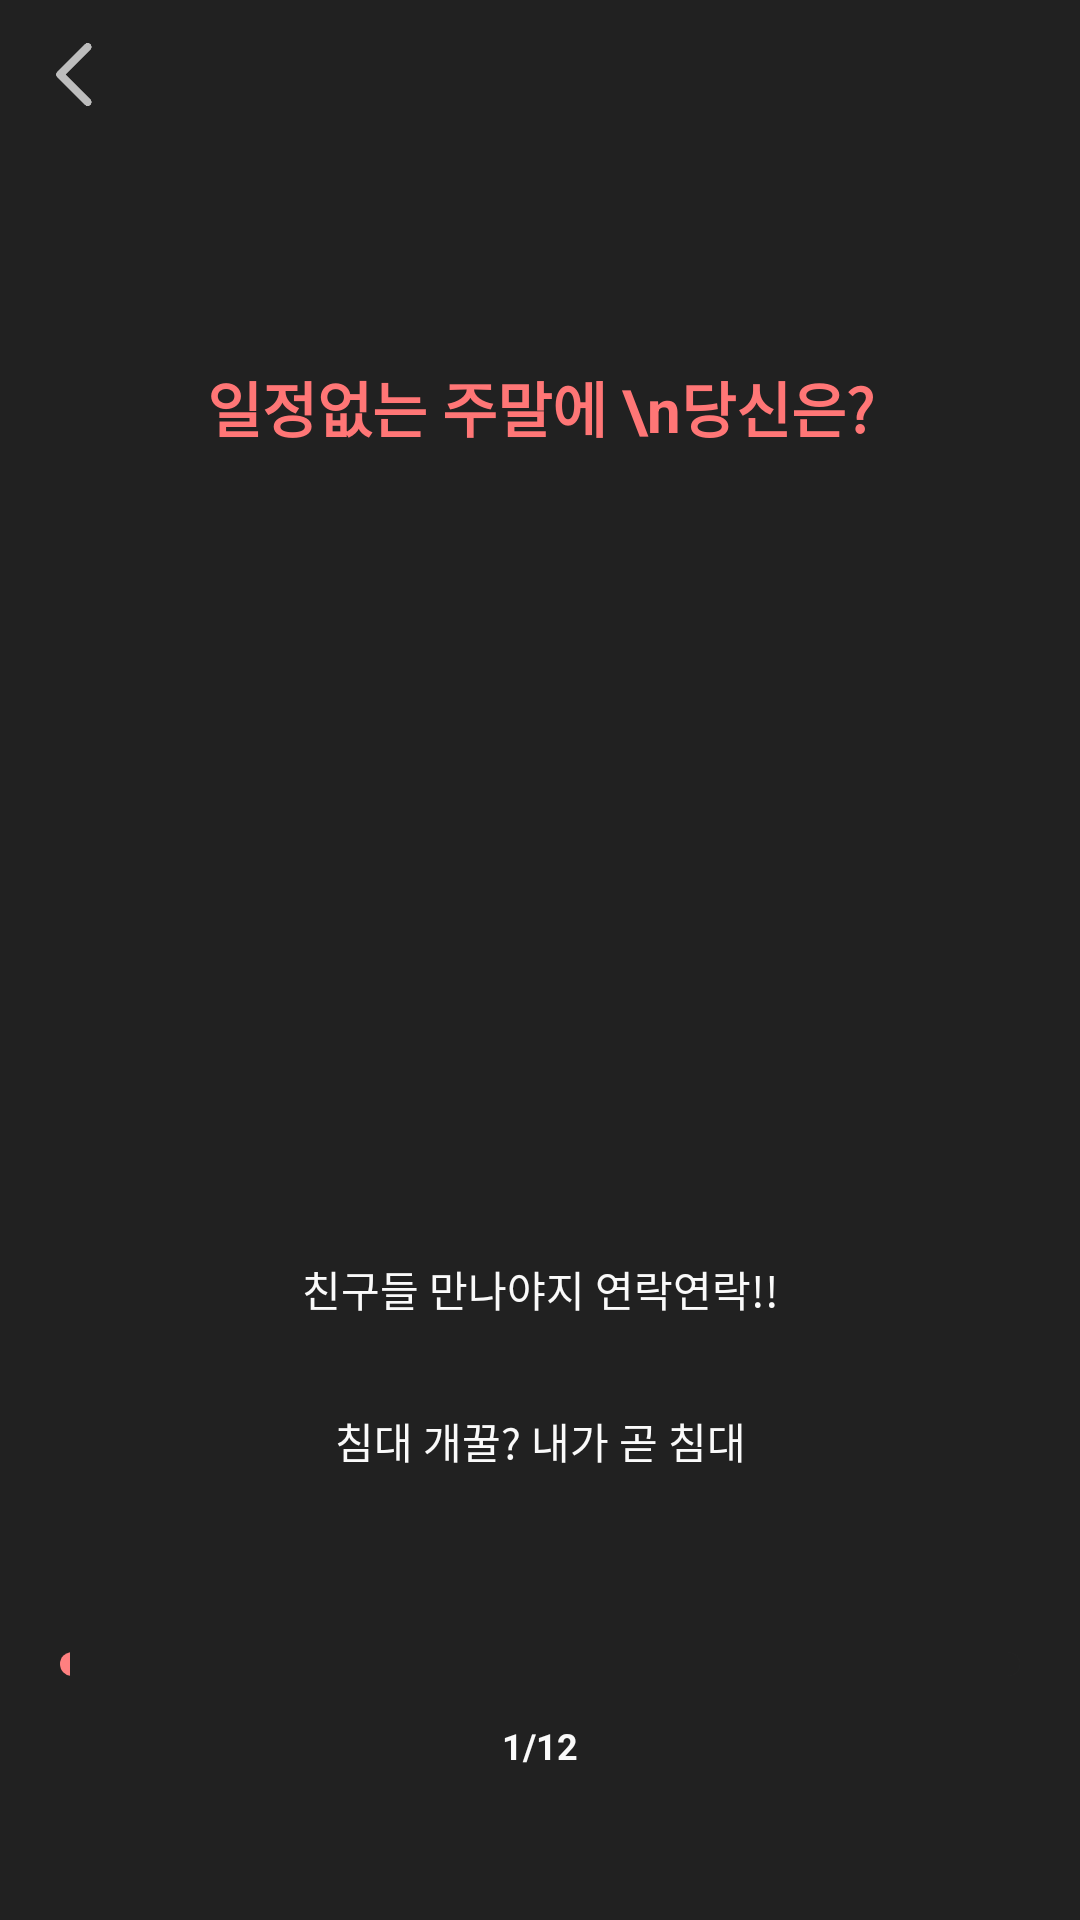

Named icons in this screenshot (1080w x 1920h) and their centers, (x=x, y=y):
back: (x=74, y=74)
